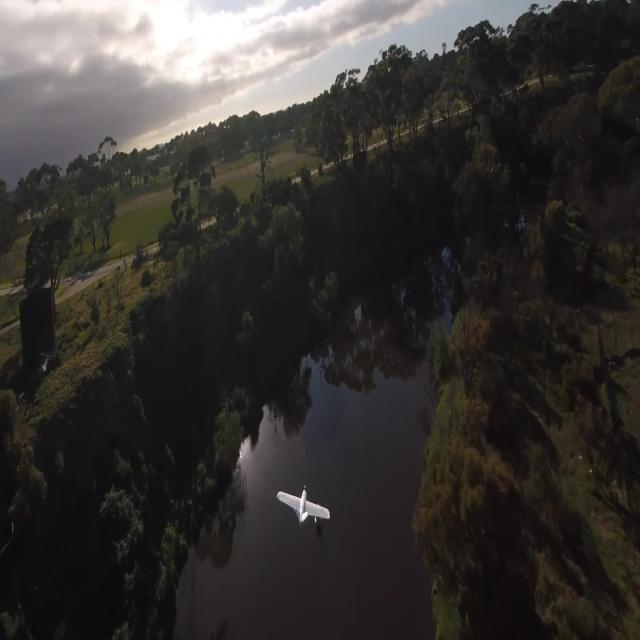iha: (276, 489, 331, 527)
